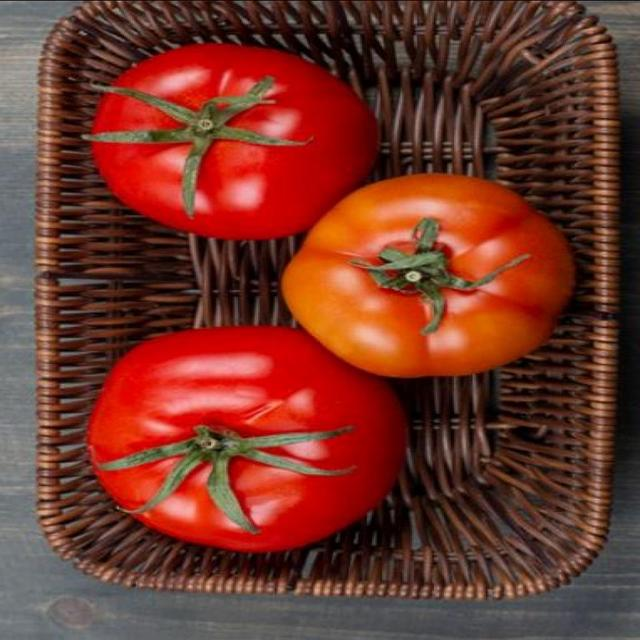Healthy Fruit: (141, 90, 280, 294)
